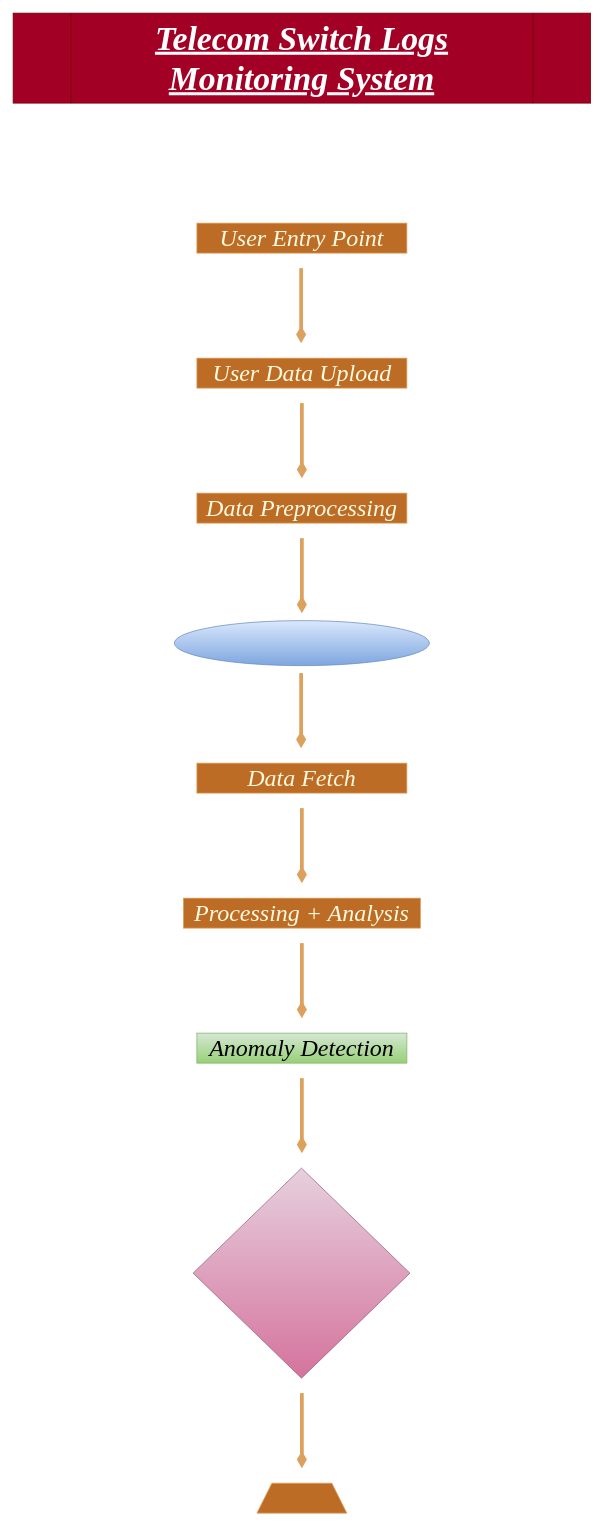
This 604x1526 diagram has some shape labels left out. Each missing label, with the centre of its shape:
"End" goes at pixel 301 1497.
"Grafana Dashboard" goes at pixel 301 1272.
"PostgreSQL Database" goes at pixel 301 643.
